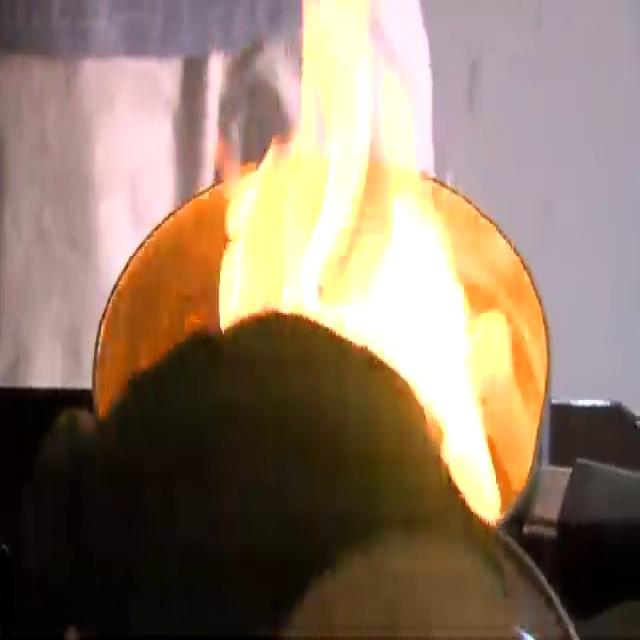fire: (214, 0, 511, 530)
